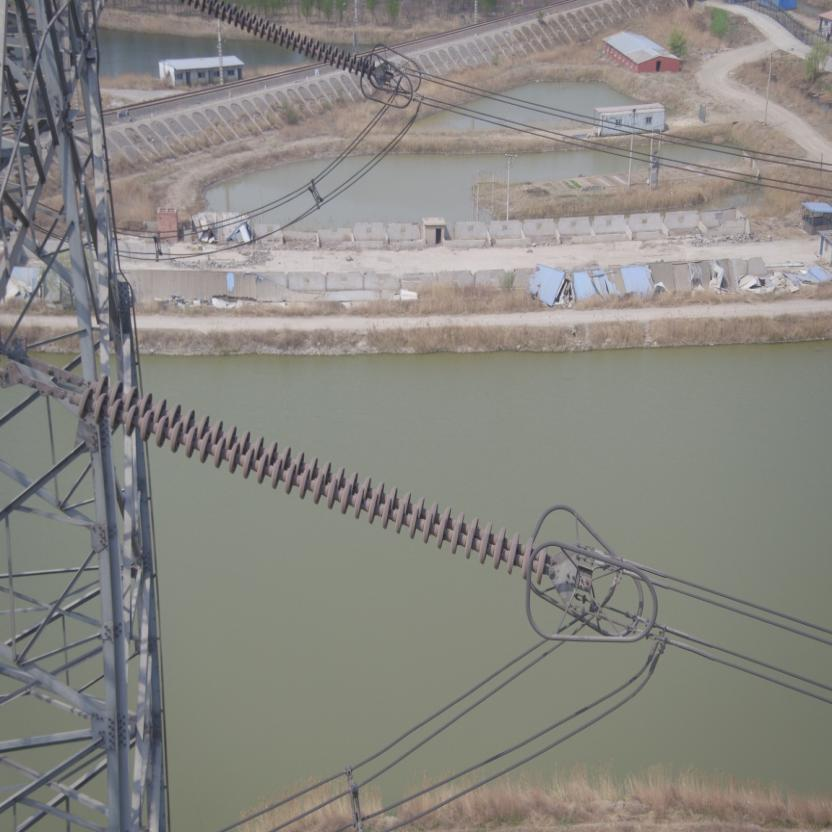insulator: (49, 363, 565, 588), (180, 0, 380, 82)
